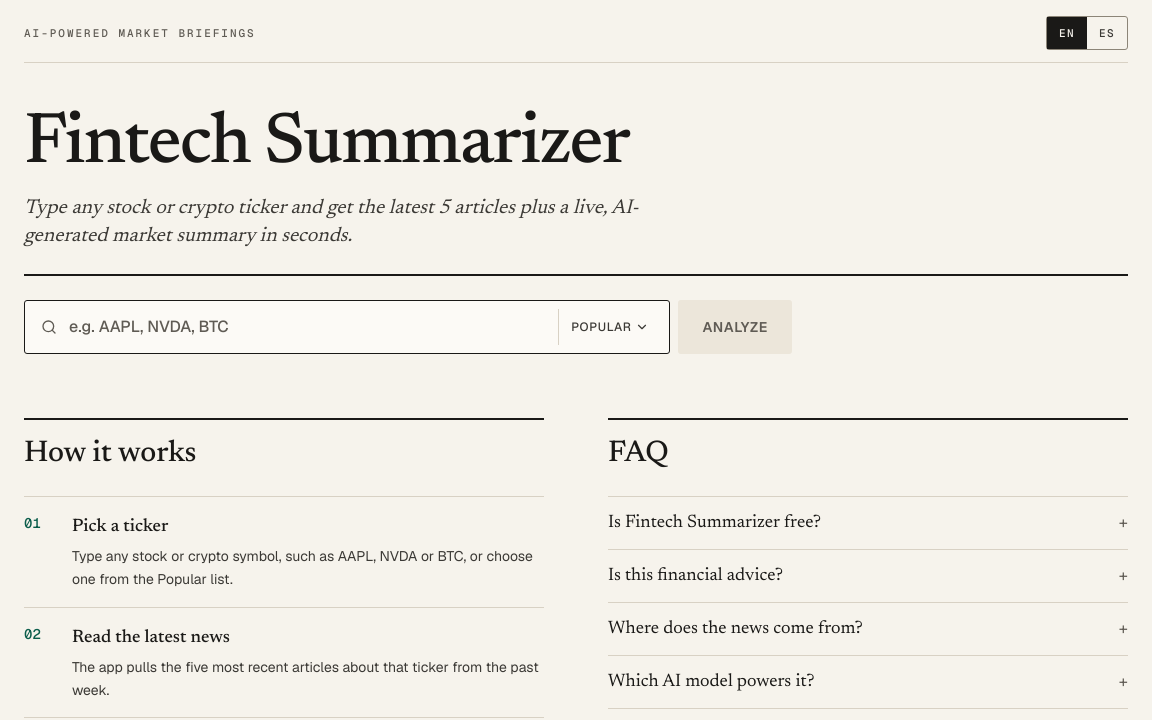
Test: Home page — full front-end pipeline › shows skeletons while waiting and aborts the stream on unmount
Type "AAPL" into the field named "Stock ticker symbol". click: (347, 327)
box: [25, 301, 670, 353]
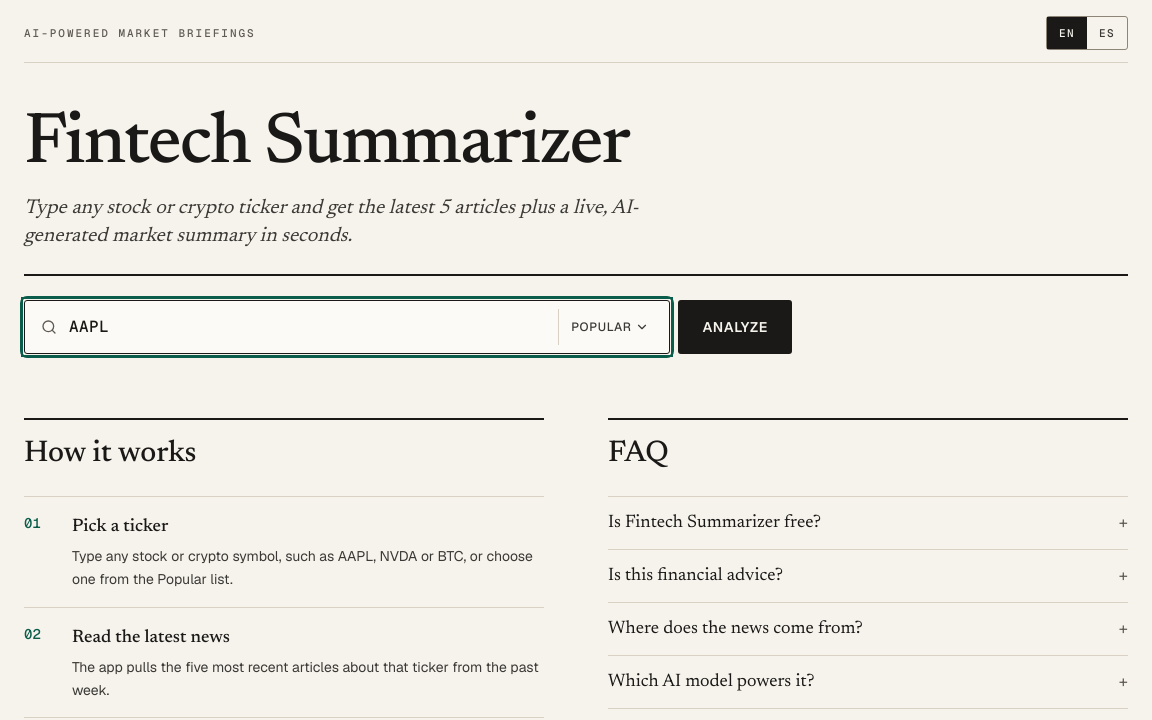
Click the button "Analyze". click: (735, 327)
box: [678, 300, 792, 354]
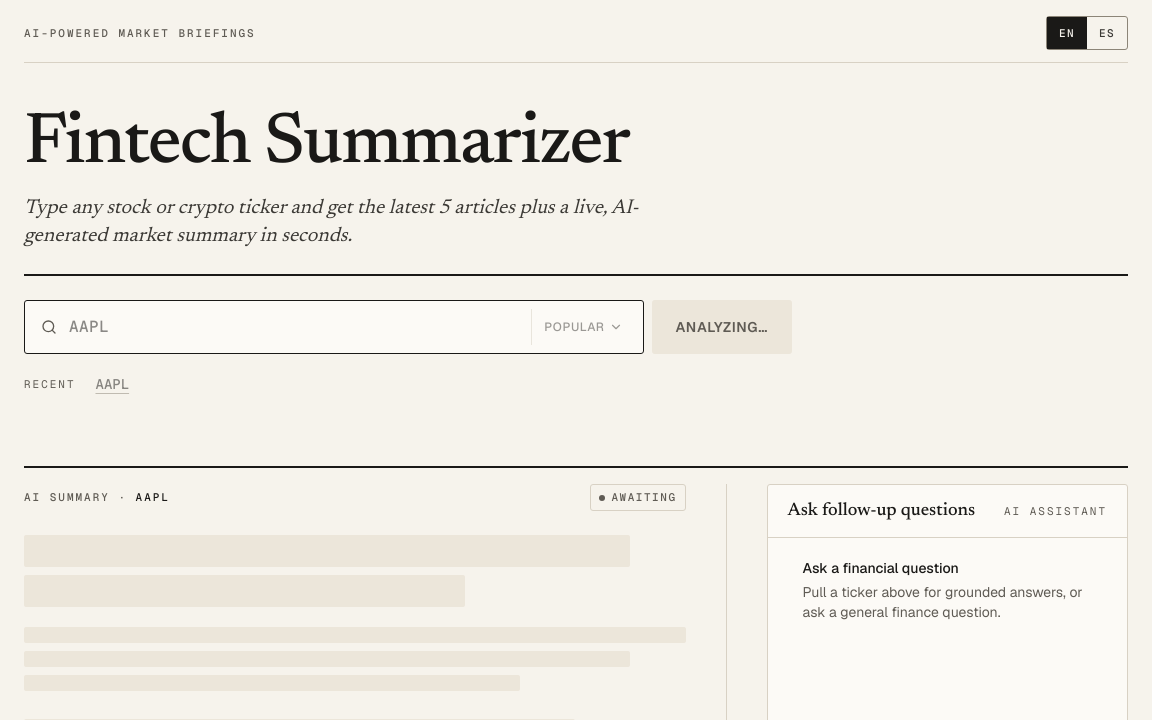
Expected: the button "Analyzing…" is disabled, [652, 300, 792, 354]
Expected: the element with class "animate-pulse" next to "AWAITING" is shown, [599, 495, 605, 501]
